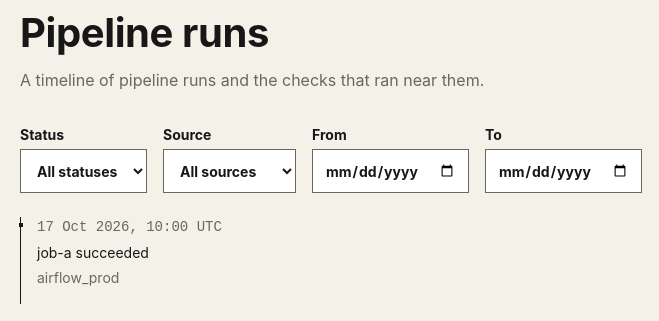
Test case: Pipeline runs page › refetches from page one when the status filter changes
Expected: the text "job-a succeeded" is shown, [37,244,149,261]
Step 1. Select "Failed" in the dropdown labelled "Status" → (84, 171), box [20,149,147,193]
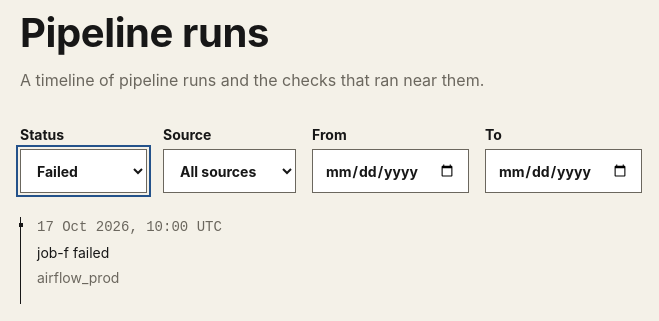
Expected: the text "job-f failed" is shown, [37,244,109,261]
Expected: the text "job-a" is gone
